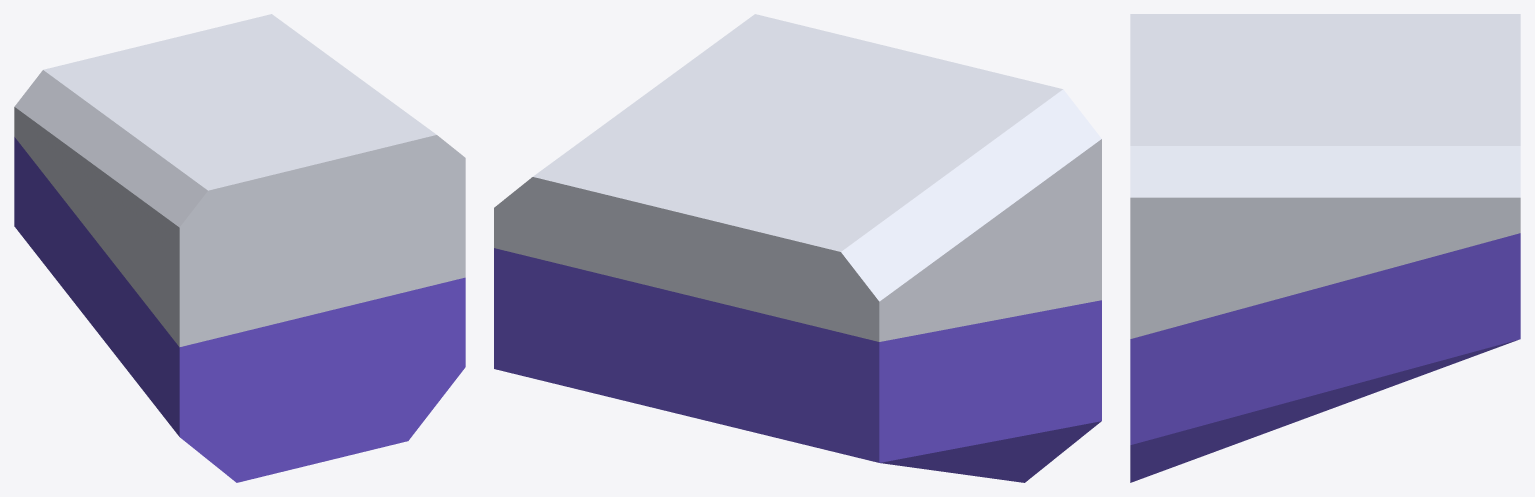
The model's file is Body_3.fbx.
3 renders of one model, left to right at view 1: azimuth 30°, elevation 25°; view 2: azimuth 150°, elevation 25°; view 3: azimuth 270°, elevation 25°, orthographic. The views are drawn at different scales.
Visible parts, largest first — view 1: hull_slant; view 2: hull_slant; view 3: hull_slant.
Boxes of the visible parts, box(x1,y1,x2,y2) form: hull_slant: box(14, 14, 465, 482); hull_slant: box(494, 14, 1101, 482); hull_slant: box(1130, 14, 1520, 482).
Bounding box in the file's own units: 10 × 10 × 10.
